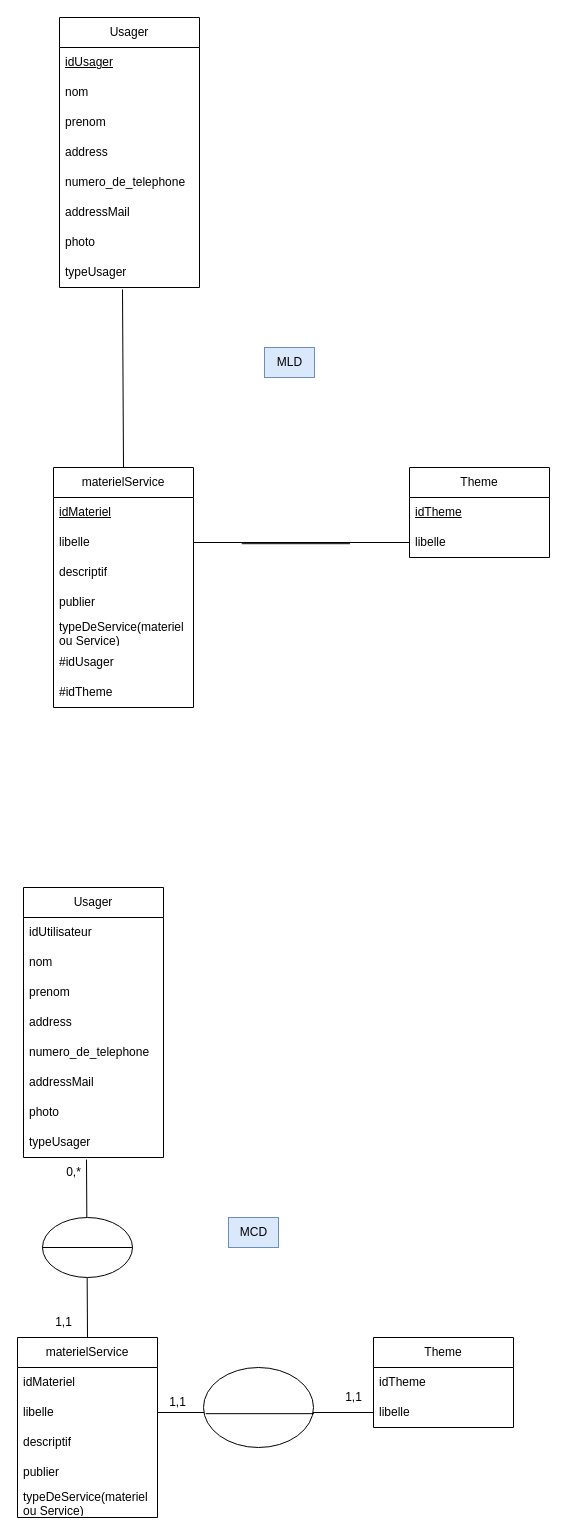
The diagram is 567 pixels wide and 1535 high, and some of its shapes have lost their labels. Each missing label, with the centre of its shape:
appartient à: pixel 258 1407
offre: pixel 87 1247
